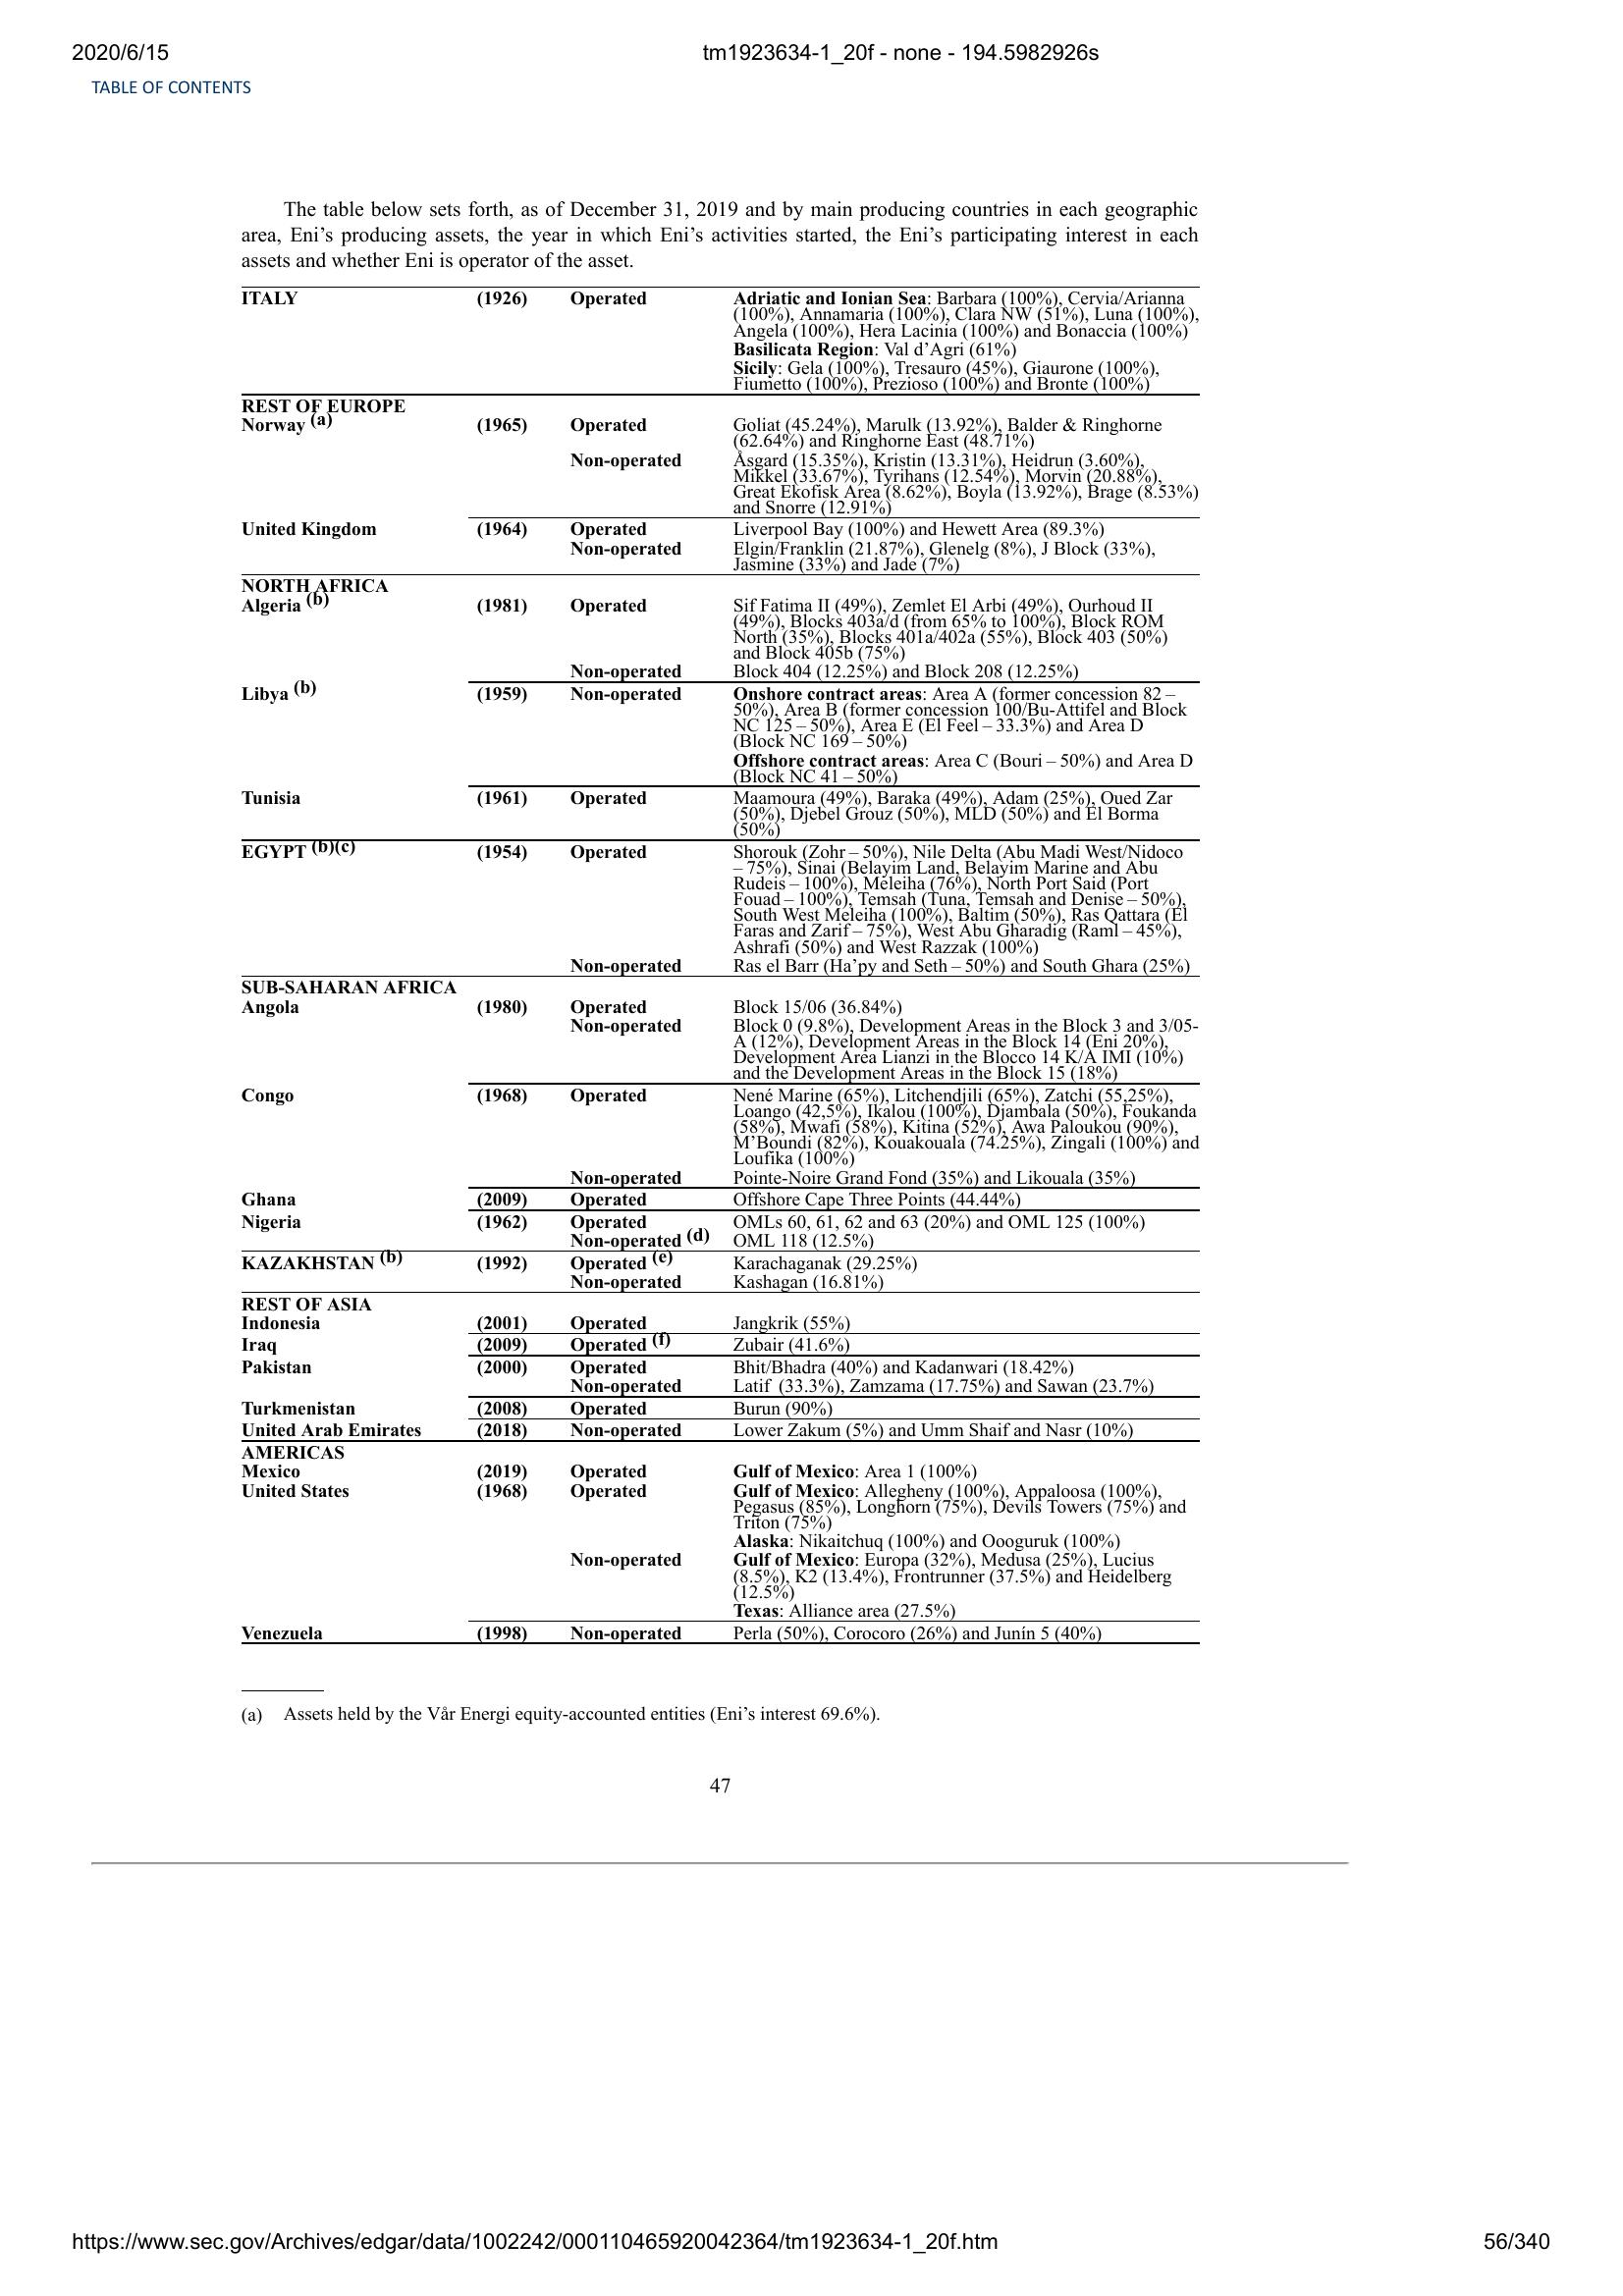table: (227, 276, 1212, 1659)
